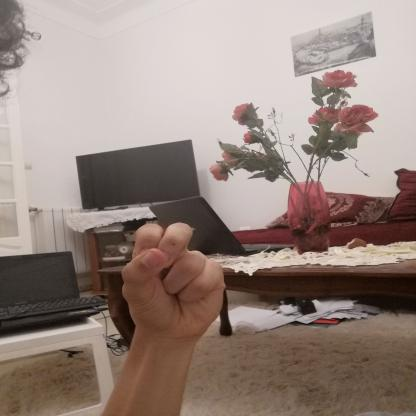QAAF: (100, 214, 243, 347)
